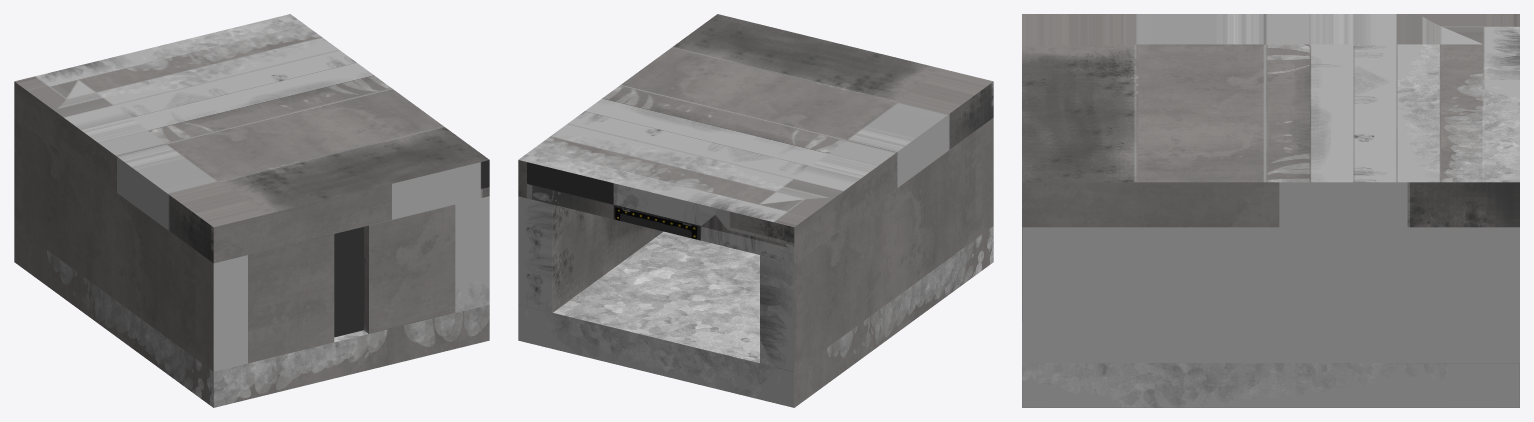
The model's file is RoomA.fbx.
3 renders of one model, left to right at view 1: azimuth 30°, elevation 25°; view 2: azimuth 150°, elevation 25°; view 3: azimuth 270°, elevation 25°, orthographic. The views are drawn at different scales.
Visible parts, largest first — view 1: Room_A_Ceiling, Room_A; view 2: Room_A_Ceiling, Room_A; view 3: Room_A_Ceiling, Room_A.
Part boxes in pixels (left/top/right/bottom): Room_A_Ceiling: left=14, top=14, right=489, bottom=263; Room_A: left=14, top=118, right=489, bottom=407; Room_A_Ceiling: left=518, top=14, right=993, bottom=263; Room_A: left=518, top=118, right=993, bottom=407; Room_A_Ceiling: left=1022, top=14, right=1519, bottom=227; Room_A: left=1022, top=227, right=1519, bottom=407.
Bounding box in the file's own units: 8 × 5 × 10.
Materials: 1 (1 with a texture image).
